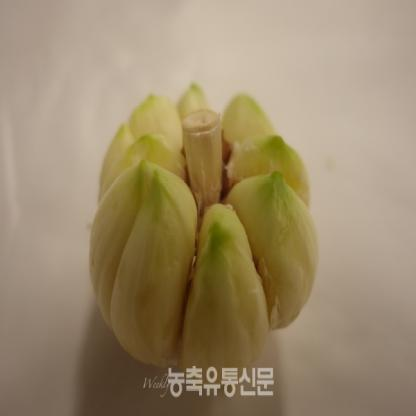garlic: (70, 158, 193, 378), (182, 204, 272, 370), (231, 156, 313, 330), (97, 92, 180, 170)
